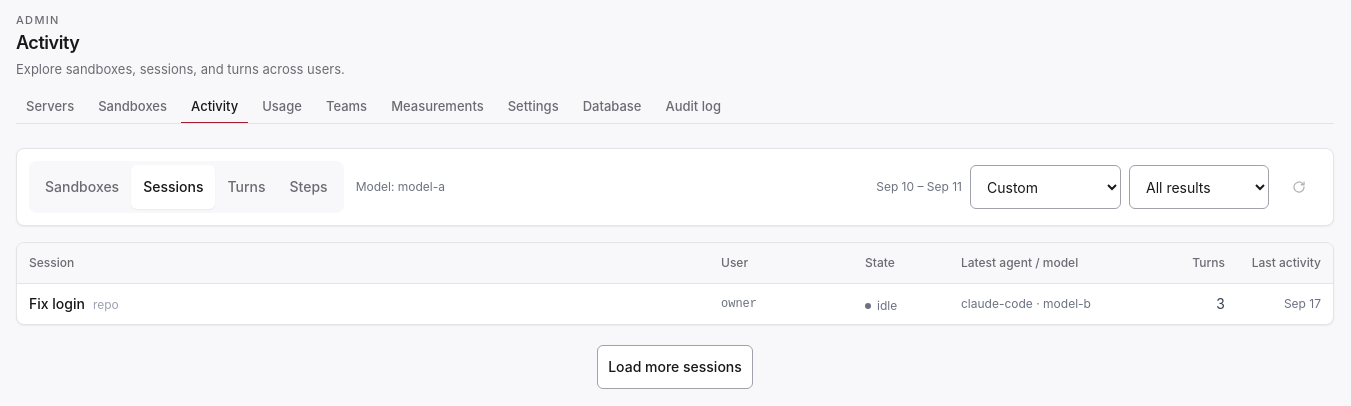
Test: session navigation › keeps a linked one-day window when changing turn result and discards stale pages
Expected: the link "Fix login" is shown, [29,294,85,314]
Click the button "Load more sessions" at point(675, 367), box [597,345,753,389]
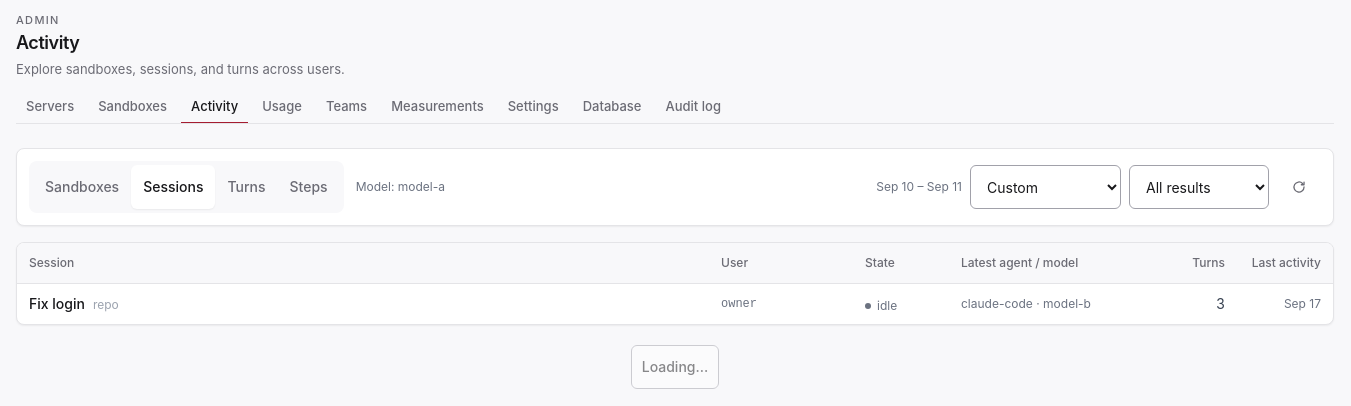
Select "failed" in the 2nd dropdown named "Turn result" at point(1199, 187), box [1129,165,1269,209]
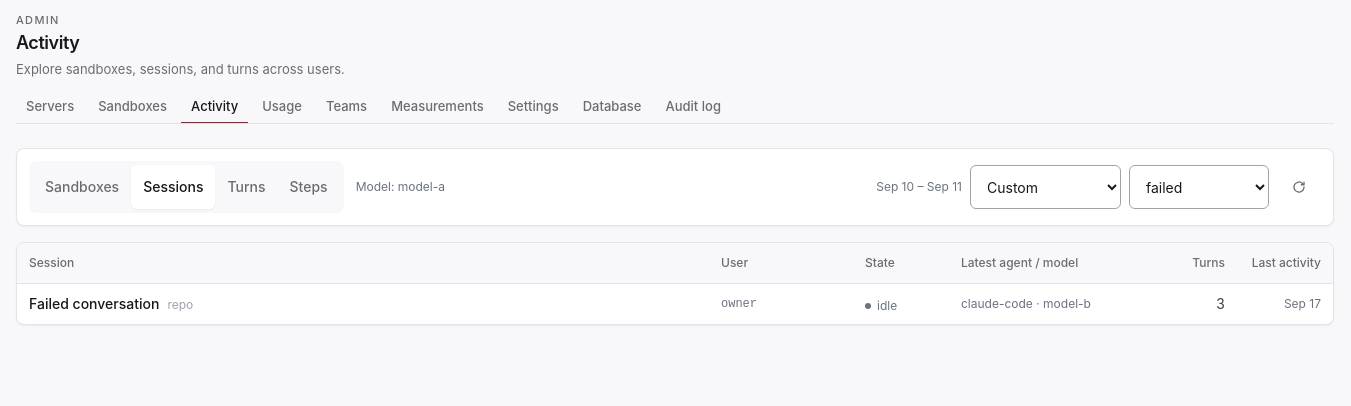
Expected: the link "Failed conversation" is shown, [29,294,159,314]
